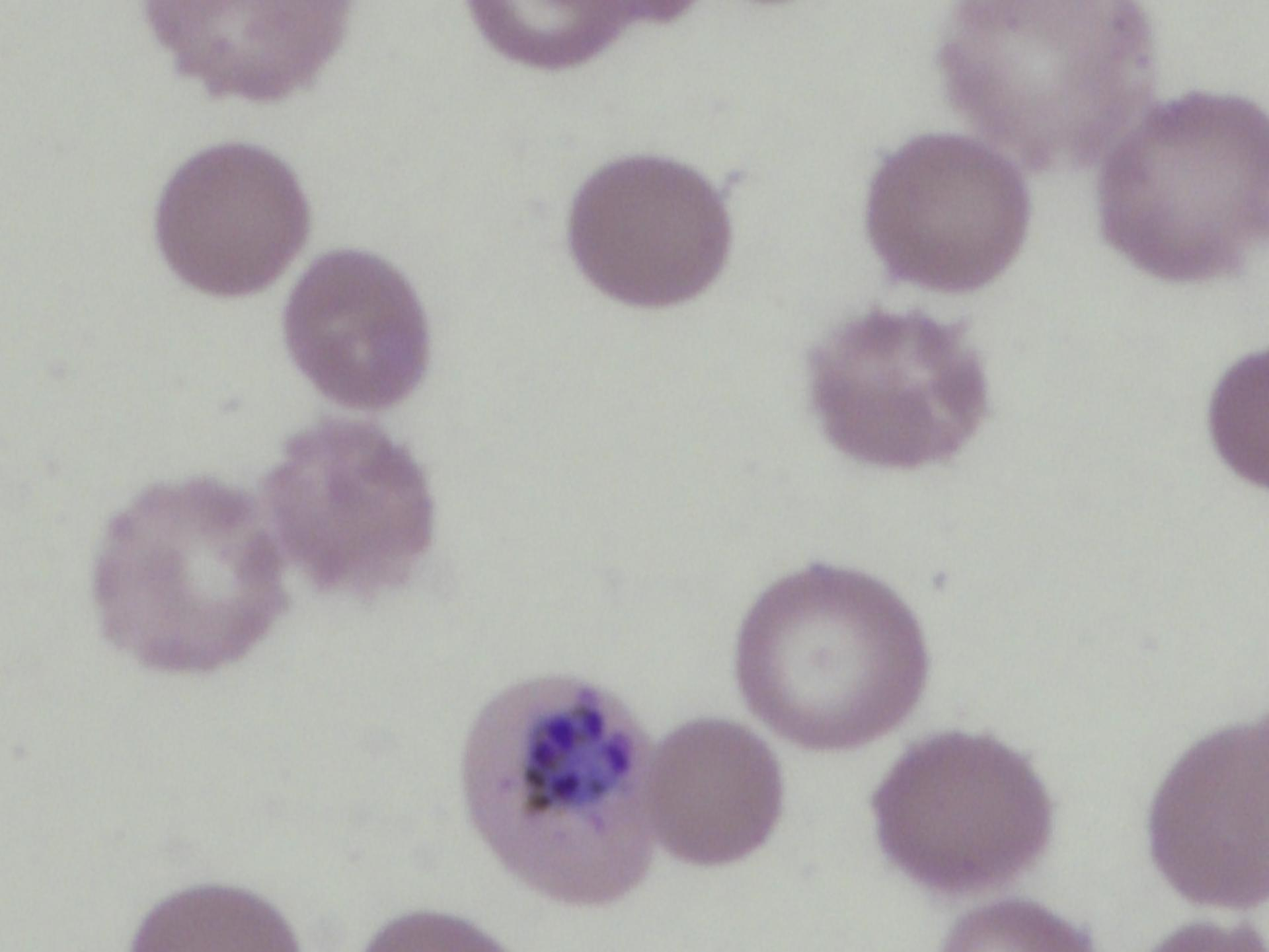Infected: (464, 673, 658, 900)
Uninfected: (92, 481, 284, 669), (735, 567, 926, 748), (942, 1, 1149, 166), (1104, 95, 1269, 274), (271, 423, 436, 594), (810, 307, 986, 466), (873, 733, 1051, 889), (866, 135, 1025, 288), (567, 155, 729, 302), (154, 142, 306, 294), (284, 250, 429, 406), (646, 719, 781, 865)
